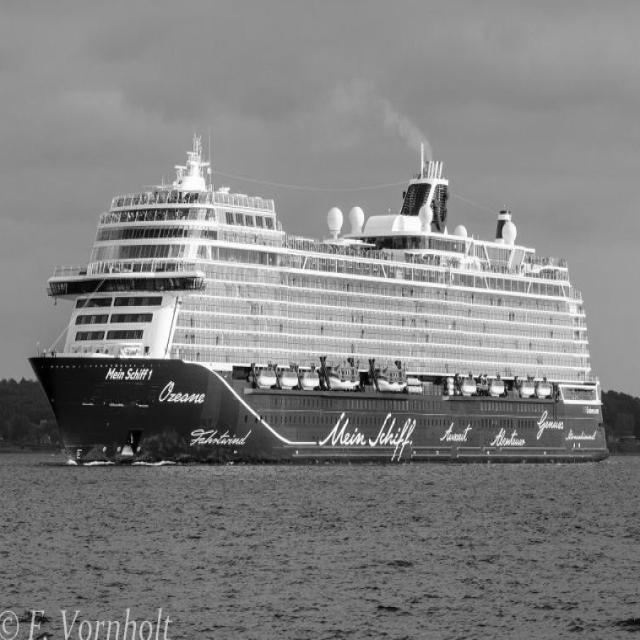cruises: (30, 112, 620, 472)
